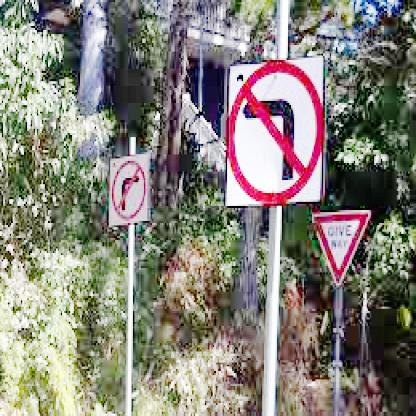No left turn: (231, 66, 326, 204)
